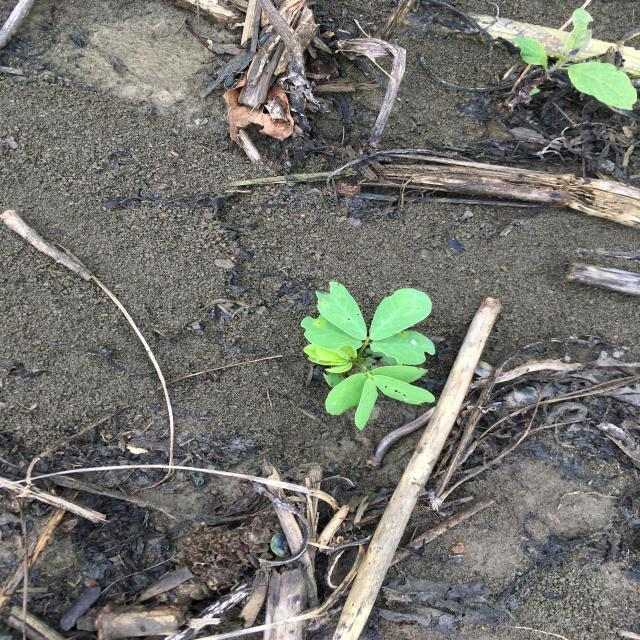Sicklepod: (300, 281, 435, 430)
